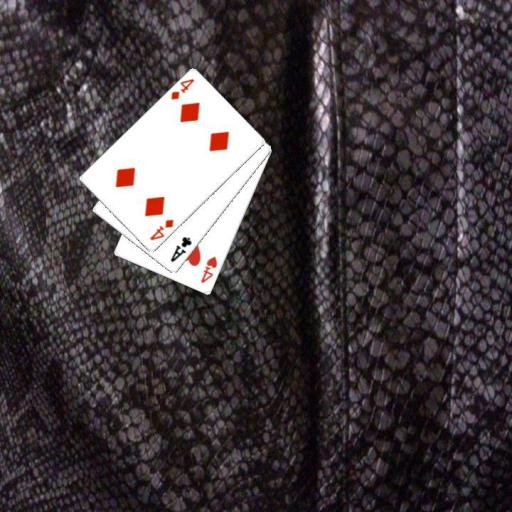4D: (146, 216, 175, 243), (167, 75, 196, 102)
4H: (198, 253, 219, 285)
AC: (167, 234, 194, 264)
